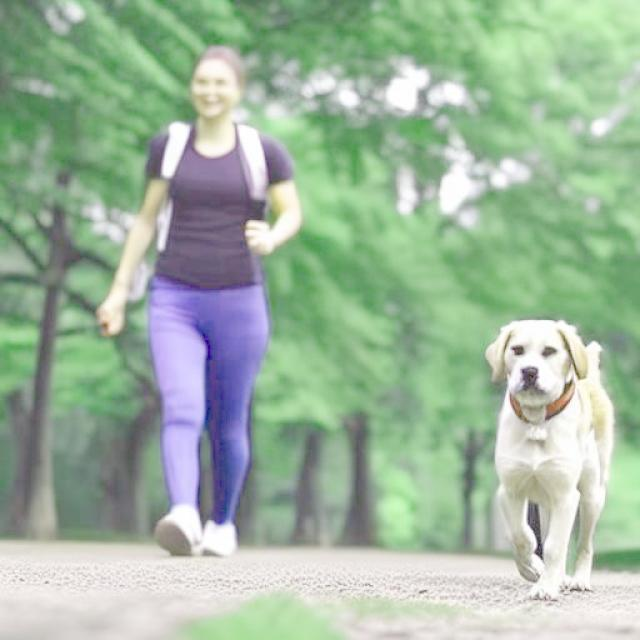Unleashed_Dog: (165, 254, 614, 603)
